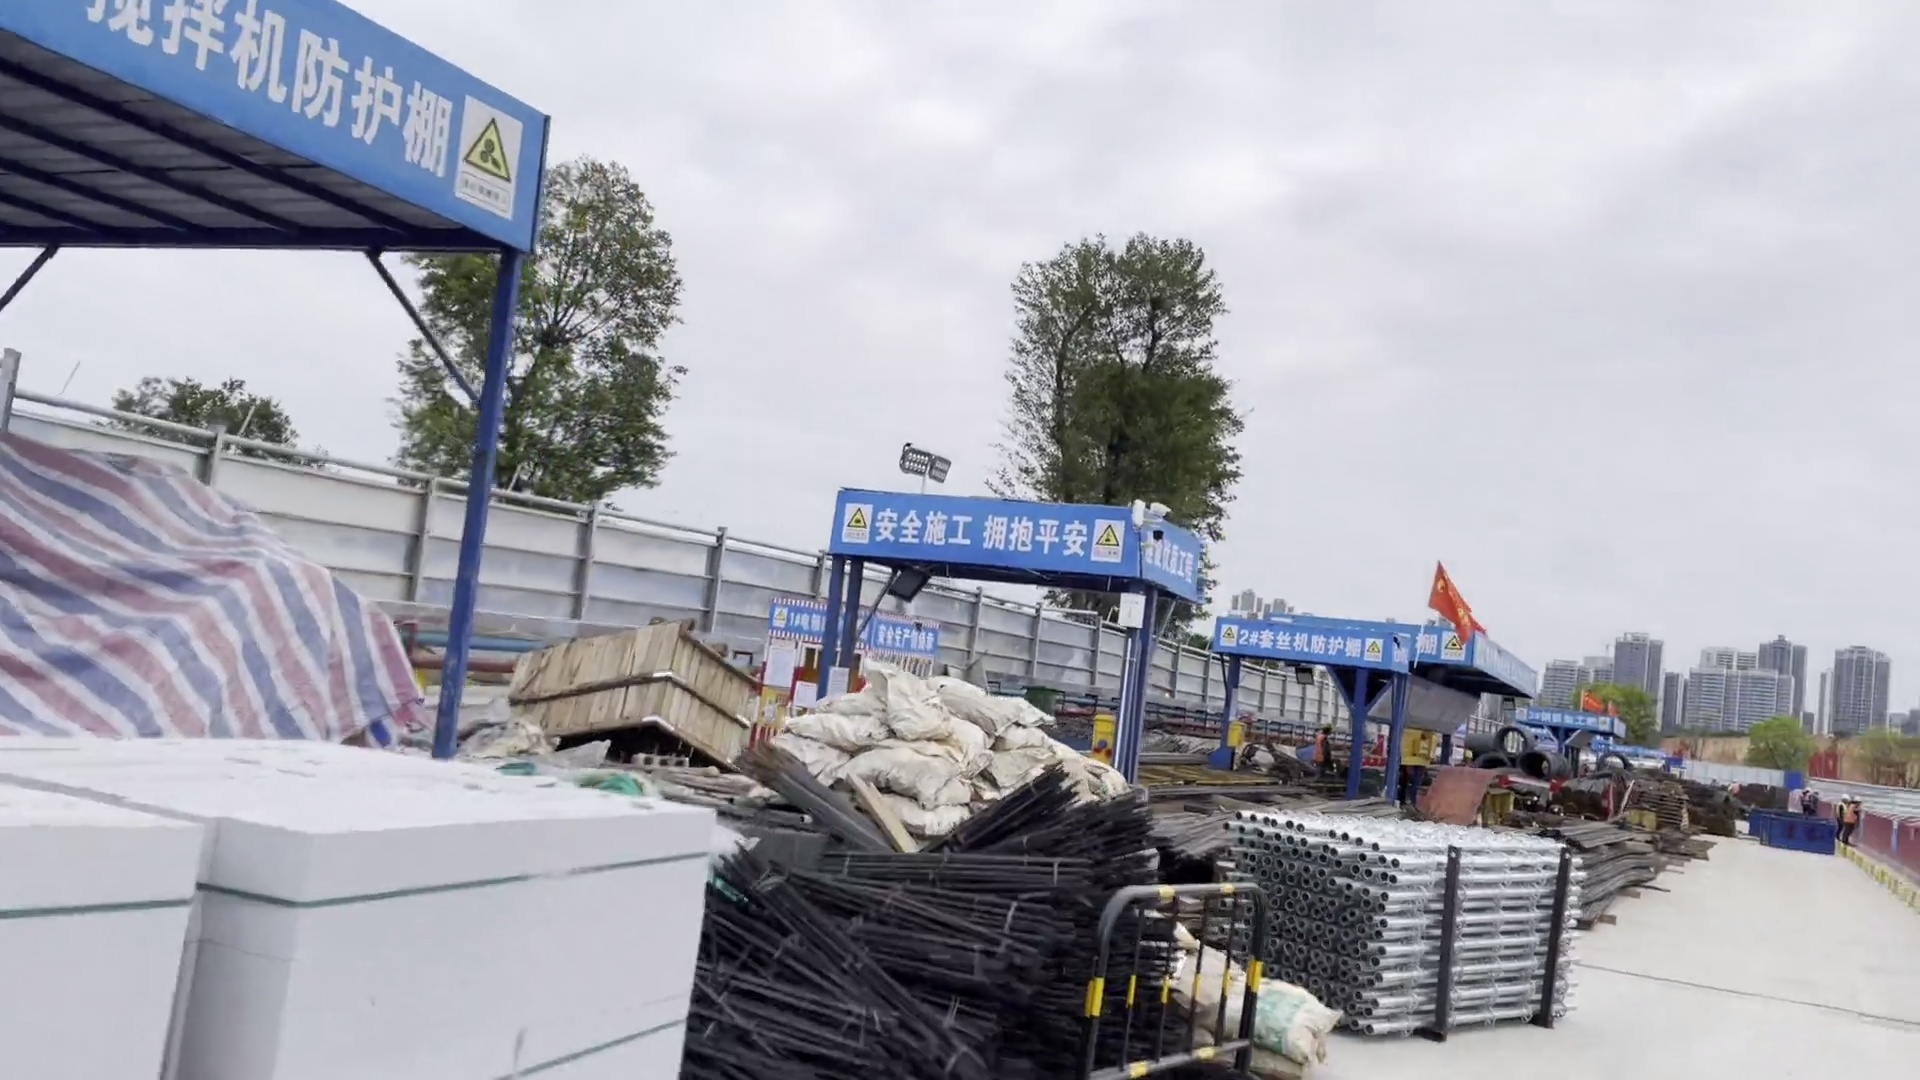brick: (1, 742, 717, 1080)
ebox: (1092, 704, 1133, 767), (1222, 719, 1247, 764)
hopper: (1745, 793, 1841, 849)
rebar: (1516, 820, 1667, 938)
scaffold: (1222, 790, 1559, 1031)
slogan: (870, 504, 1088, 567)
